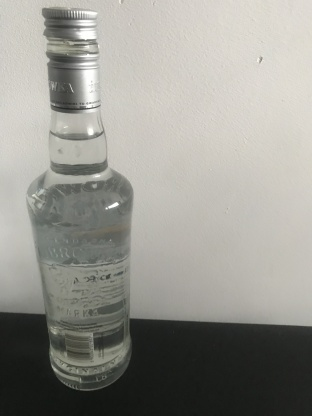nakretka: (40, 5, 103, 114)
